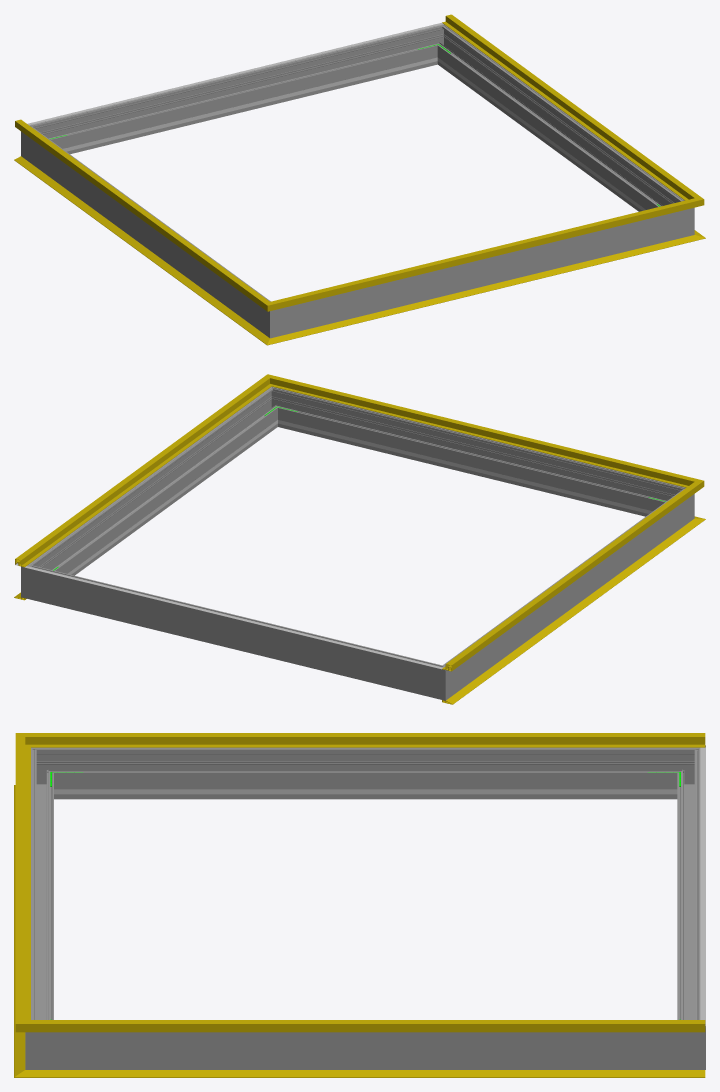
The picture shows the model from 3 angles, top to bottom: view 1: azimuth 30°, elevation 25°; view 2: azimuth 150°, elevation 25°; view 3: azimuth 270°, elevation 25°; orthographic projection. The views are drawn at different scales.
Visible parts, largest first — view 1: 3DGeom-276, 3DGeom-298, 3DGeom-297, 3DGeom-268, 3DGeom-123, 3DGeom-128, 3DGeom-118, 3DGeom-28, 3DGeom-38, 3DGeom-244, 3DGeom-220, 3DGeom-270 (+3 smaller); view 2: 3DGeom-298, 3DGeom-276, 3DGeom-297, 3DGeom-268, 3DGeom-123, 3DGeom-128, 3DGeom-118, 3DGeom-38, 3DGeom-239, 3DGeom-278, 3DGeom-220, 3DGeom-237 (+2 smaller); view 3: 3DGeom-268, 3DGeom-297, 3DGeom-118, 3DGeom-128, 3DGeom-276, 3DGeom-298, 3DGeom-30, 3DGeom-123, 3DGeom-232, 3DGeom-220, 3DGeom-284, 3DGeom-290 (+5 smaller).
Boxes of the visible parts, box(x1,y1,x2,y2) form: 3DGeom-276: box(45, 28, 433, 154); 3DGeom-298: box(292, 213, 672, 332); 3DGeom-297: box(440, 32, 678, 211); 3DGeom-268: box(33, 133, 264, 328); 3DGeom-123: box(286, 202, 682, 306); 3DGeom-128: box(442, 14, 690, 197); 3DGeom-118: box(15, 119, 260, 302); 3DGeom-28: box(285, 238, 683, 339); 3DGeom-38: box(14, 156, 260, 335); 3DGeom-244: box(71, 62, 416, 150); 3DGeom-220: box(27, 22, 443, 125); 3DGeom-270: box(257, 297, 291, 338); 3DGeom-298: box(281, 391, 670, 516); 3DGeom-276: box(42, 569, 427, 695); 3DGeom-297: box(37, 394, 275, 575); 3DGeom-268: box(451, 495, 681, 690); 3DGeom-123: box(284, 379, 681, 485); 3DGeom-128: box(15, 383, 264, 567); 3DGeom-118: box(442, 488, 691, 671); 3DGeom-38: box(442, 524, 692, 704); 3DGeom-239: box(299, 425, 644, 512); 3DGeom-278: box(423, 659, 458, 700); 3DGeom-220: box(24, 566, 442, 669); 3DGeom-237: box(67, 429, 265, 574); 3DGeom-268: box(59, 747, 671, 799); 3DGeom-297: box(59, 1032, 671, 1069); 3DGeom-118: box(50, 733, 705, 747); 3DGeom-128: box(50, 1020, 705, 1032); 3DGeom-276: box(677, 760, 700, 1019); 3DGeom-298: box(31, 760, 53, 1019); 3DGeom-30: box(48, 1070, 705, 1077); 3DGeom-123: box(15, 747, 30, 1016); 3DGeom-232: box(87, 789, 643, 794); 3DGeom-220: box(700, 747, 705, 1026); 3DGeom-284: box(671, 1013, 705, 1069); 3DGeom-290: box(25, 1013, 59, 1069).
Size of the model in its own units: 3.05 by 0.2596 by 3.05.
